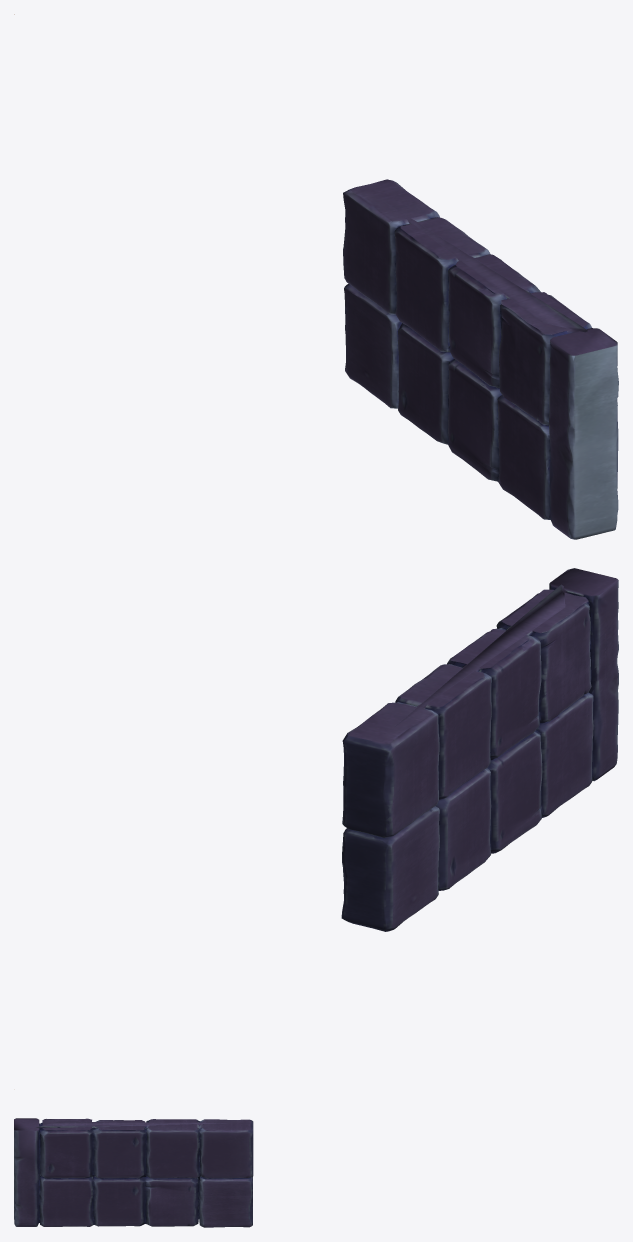
The model's file is woodWall.glb.
3 renders of one model, top to bottom at view 1: azimuth 30°, elevation 25°; view 2: azimuth 150°, elevation 25°; view 3: azimuth 270°, elevation 25°, orthographic. The views are drawn at different scales.
Parts seen in each view (by area): view 1: Wall_01; view 2: Wall_01; view 3: Wall_01.
Part boxes in pixels (x1,y1,x2,y2): Wall_01: (343, 179, 618, 539); Wall_01: (341, 568, 618, 931); Wall_01: (14, 1118, 253, 1227).
Size of the model in its own units: 58.16 by 202 by 1130.
Materials: 3 (2 with a texture image).
